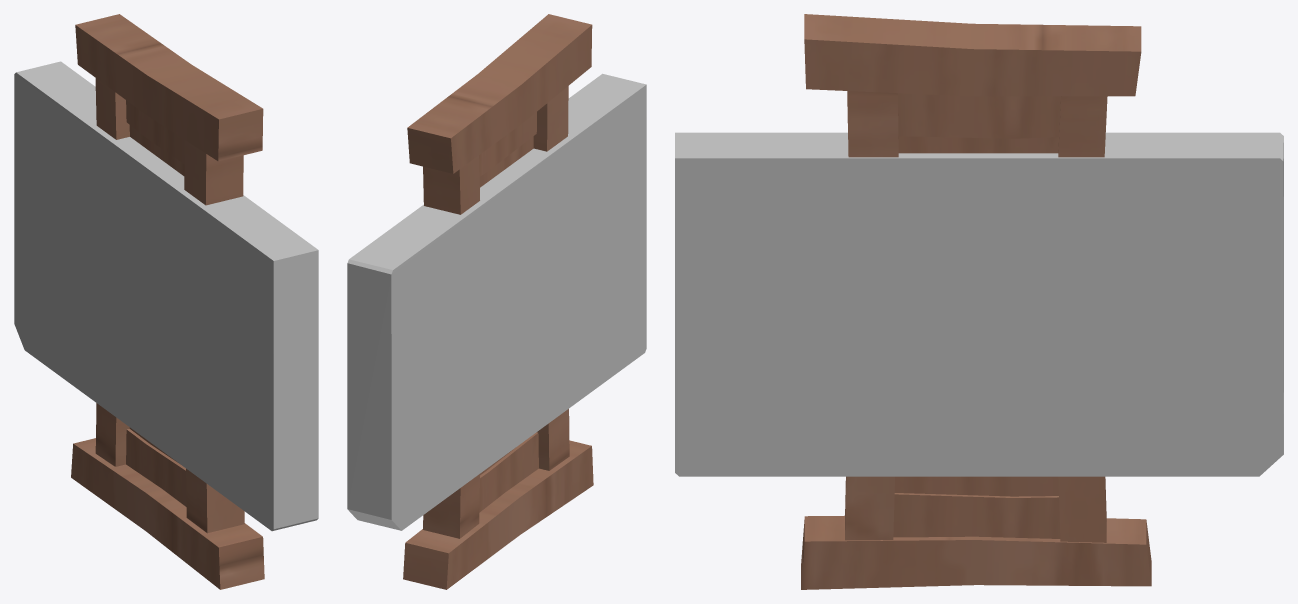
File: SM_wooden_window_04.fbx
3 views of the same model, side by side, from view 1: azimuth 30°, elevation 25°; view 2: azimuth 150°, elevation 25°; view 3: azimuth 270°, elevation 25° (orthographic). The views are drawn at different scales.
Visible parts, largest first — view 1: SM_wooden_window_04_ConvexHulls, SM_wooden_window_04; view 2: SM_wooden_window_04_ConvexHulls, SM_wooden_window_04; view 3: SM_wooden_window_04_ConvexHulls, SM_wooden_window_04.
Boxes of the visible parts, x1,y1,x2,y2 form: SM_wooden_window_04_ConvexHulls: (14, 61, 318, 531); SM_wooden_window_04: (71, 14, 264, 589); SM_wooden_window_04_ConvexHulls: (347, 73, 646, 530); SM_wooden_window_04: (403, 14, 593, 589); SM_wooden_window_04_ConvexHulls: (675, 132, 1283, 476); SM_wooden_window_04: (801, 14, 1151, 589).
Size of the model in its own units: 14.09 by 141 by 140.
